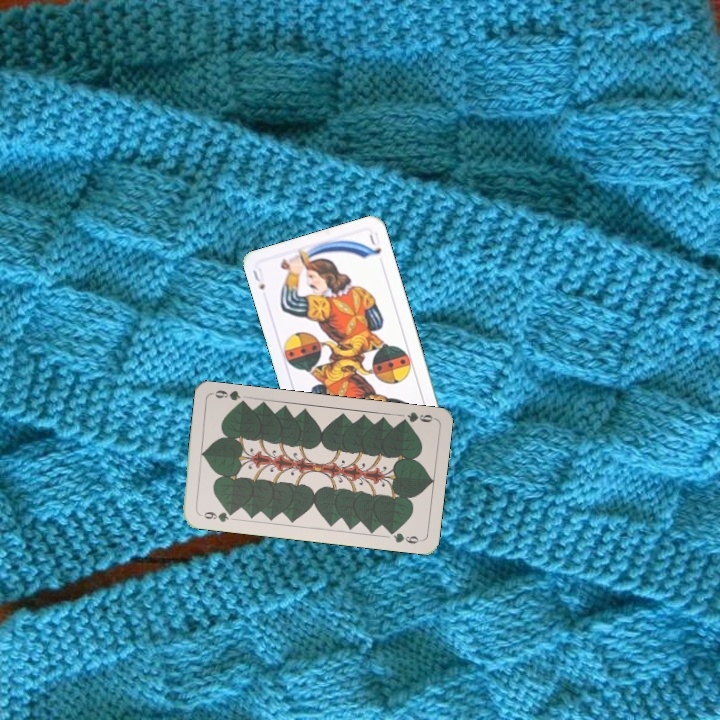G9: (396, 408, 437, 427), (195, 508, 236, 524)
SU: (249, 264, 267, 293)
